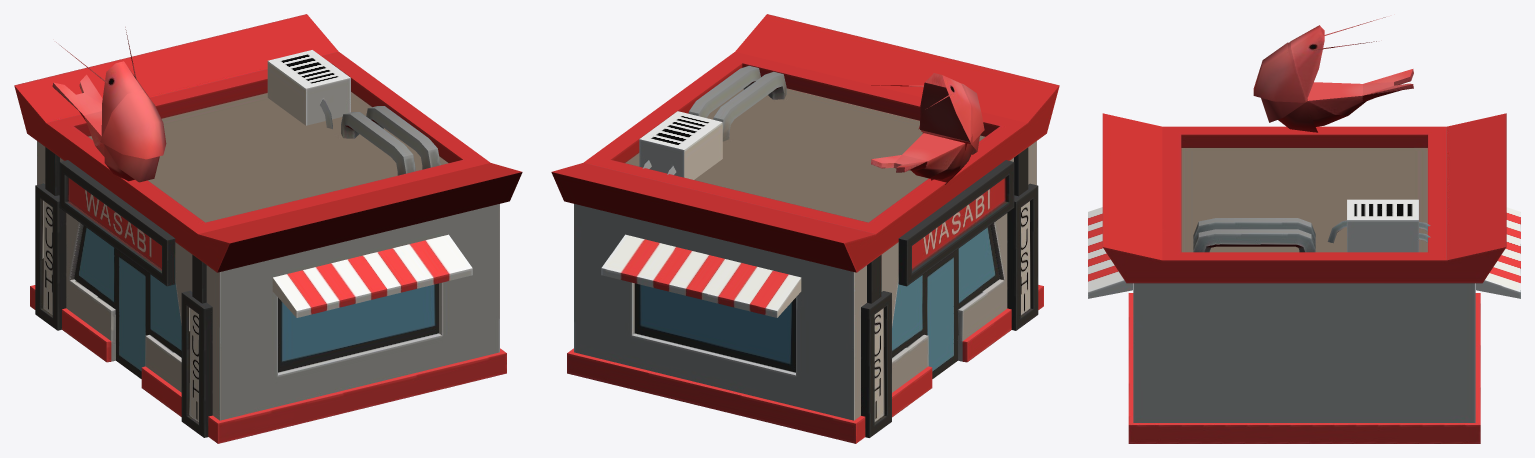
The model's file is Sushi.glb.
3 views of the same model, side by side, from view 1: azimuth 30°, elevation 25°; view 2: azimuth 150°, elevation 25°; view 3: azimuth 270°, elevation 25° (orthographic). The views are drawn at different scales.
Visible parts, largest first — view 1: Plane007; view 2: Plane007; view 3: Plane007.
Boxes of the visible parts, x1,y1,x2,y2 form: Plane007: (14, 14, 522, 443); Plane007: (551, 14, 1059, 443); Plane007: (1088, 17, 1520, 443).
Bounding box in the file's own units: 2.44 × 2.31 × 3.11.
1 material, 1 textured.
